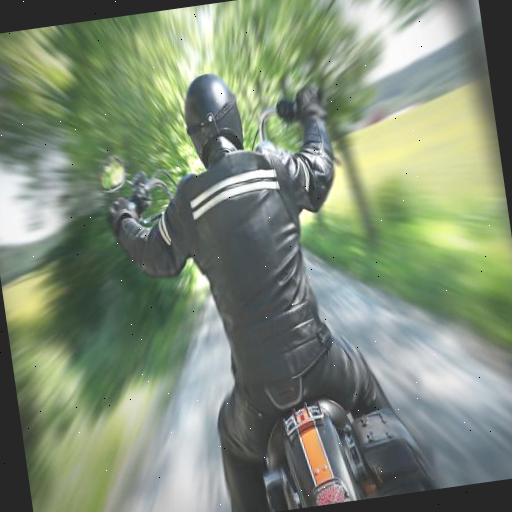helmet: (104, 38, 382, 508)
